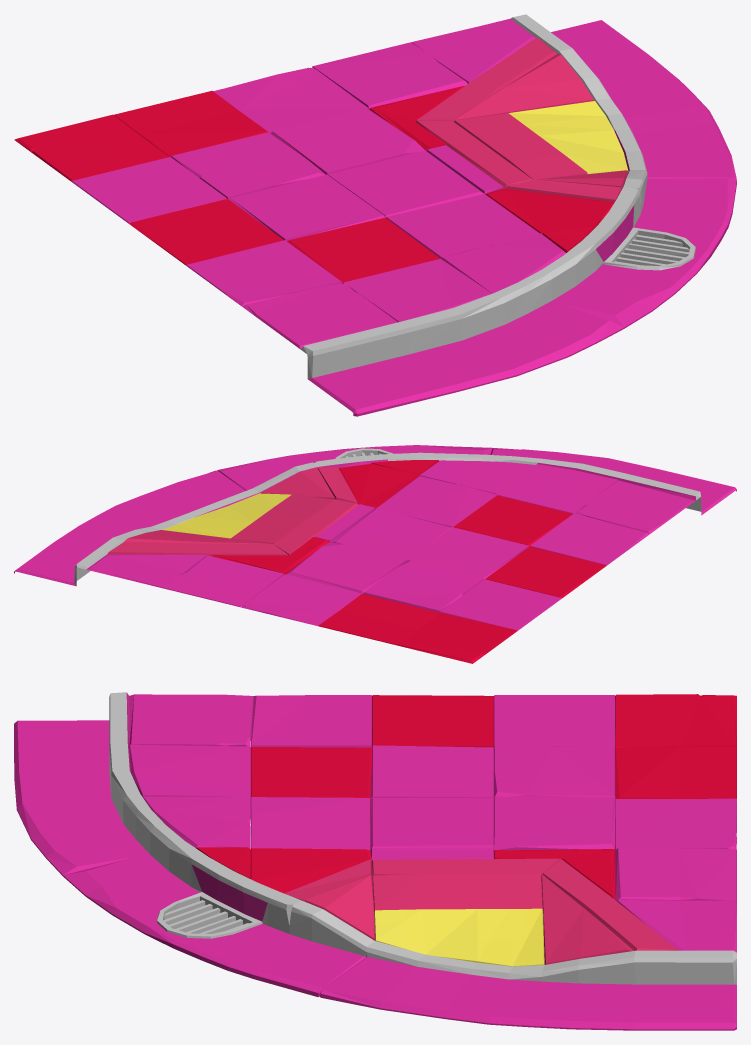
Rendered from Sidewalk11.fbx.
3 renders of one model, top to bottom at view 1: azimuth 30°, elevation 25°; view 2: azimuth 150°, elevation 25°; view 3: azimuth 270°, elevation 25°, orthographic. The views are drawn at different scales.
Visible parts, largest first — view 1: SM_Sidewalk_02e.mo; view 2: SM_Sidewalk_02e.mo; view 3: SM_Sidewalk_02e.mo.
Boxes of the visible parts, x1,y1,x2,y2 form: SM_Sidewalk_02e.mo: [14, 14, 736, 416]; SM_Sidewalk_02e.mo: [14, 445, 736, 663]; SM_Sidewalk_02e.mo: [14, 692, 736, 1030].
Bounding box in the file's own units: 595 × 36.23 × 595.
